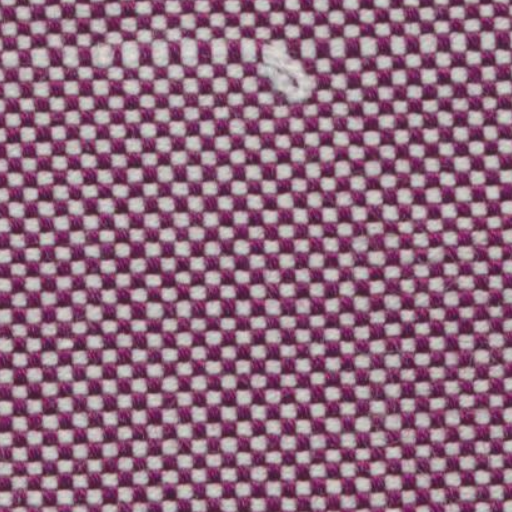DaiSha: (18, 20, 320, 99)
